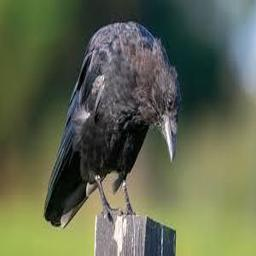Crow: (43, 21, 181, 229)
